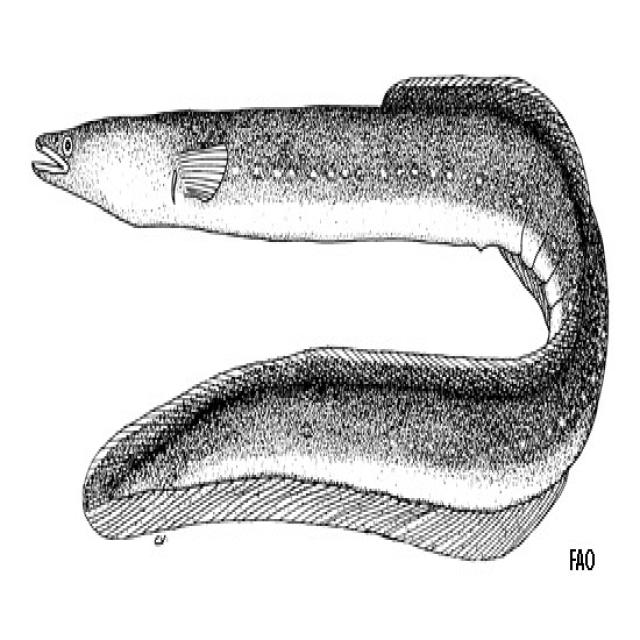Freshwater-Eel: (12, 68, 629, 582)
